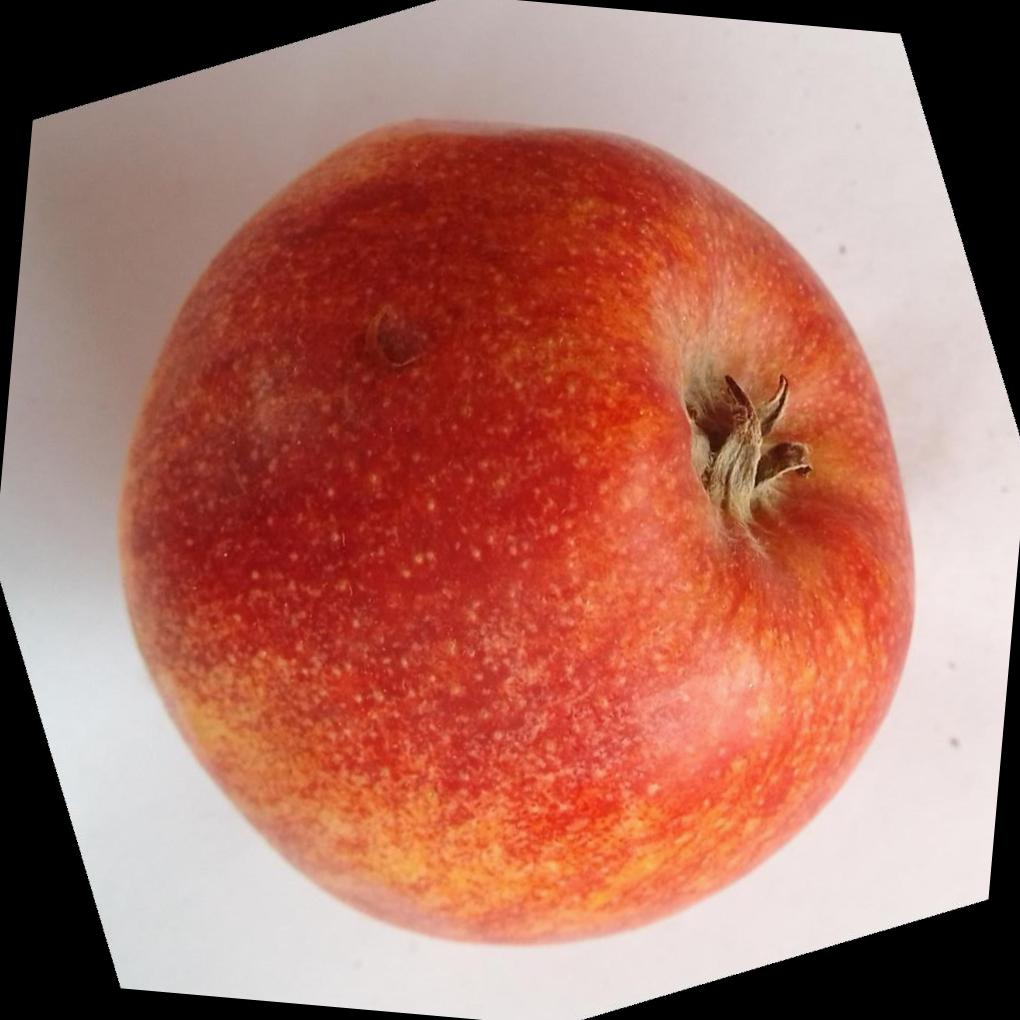FreshGuava: (117, 120, 919, 948)
